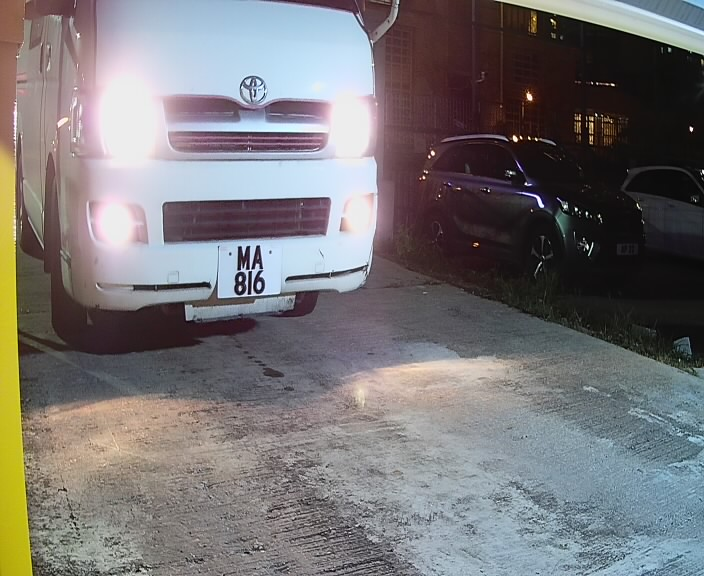License Plate: (214, 243, 286, 307)
